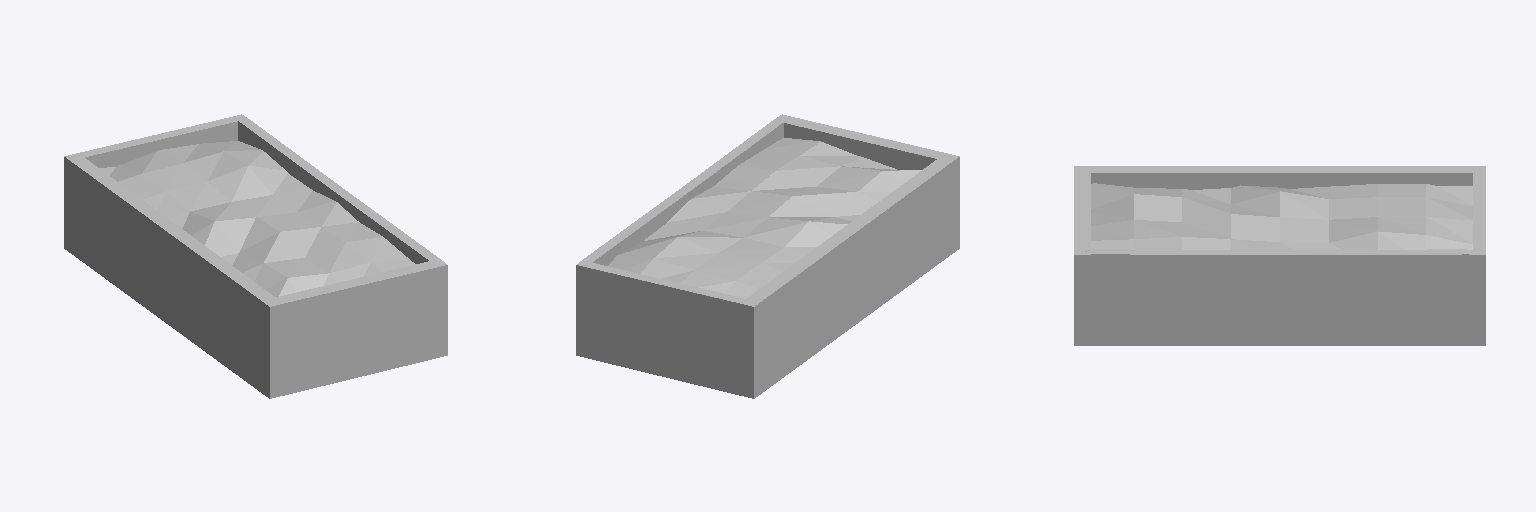
The model's file is treasurechestbottom.obj.
The picture shows the model from 3 angles: view 1: azimuth 30°, elevation 25°; view 2: azimuth 150°, elevation 25°; view 3: azimuth 270°, elevation 25°; orthographic projection.
Visible parts, largest first — view 1: Cube.001, Plane; view 2: Cube.001, Plane; view 3: Cube.001, Plane.
Part boxes in pixels (x1,y1,x2,y2): Cube.001: (64,114,447,398); Plane: (100,141,414,296); Cube.001: (576,114,959,398); Plane: (608,138,921,298); Cube.001: (1074,166,1485,345); Plane: (1091,183,1472,249).
Bounding box in the file's own units: 0.8 × 0.3957 × 1.6.